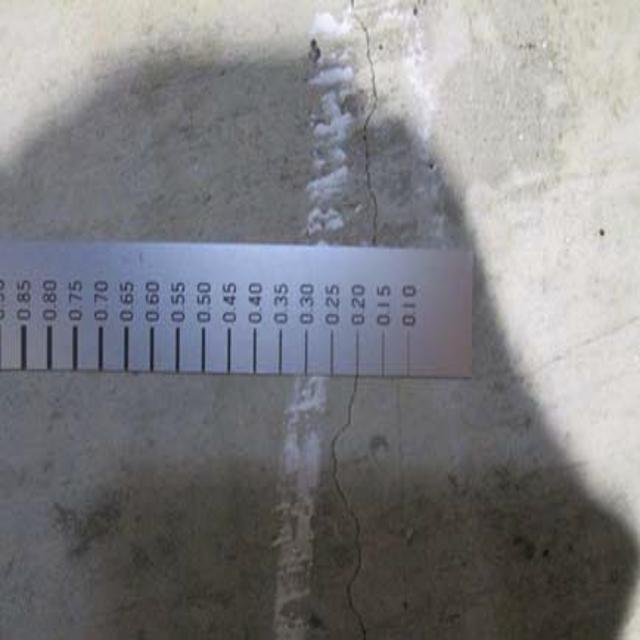crack: (313, 377, 394, 640), (333, 10, 398, 253)
